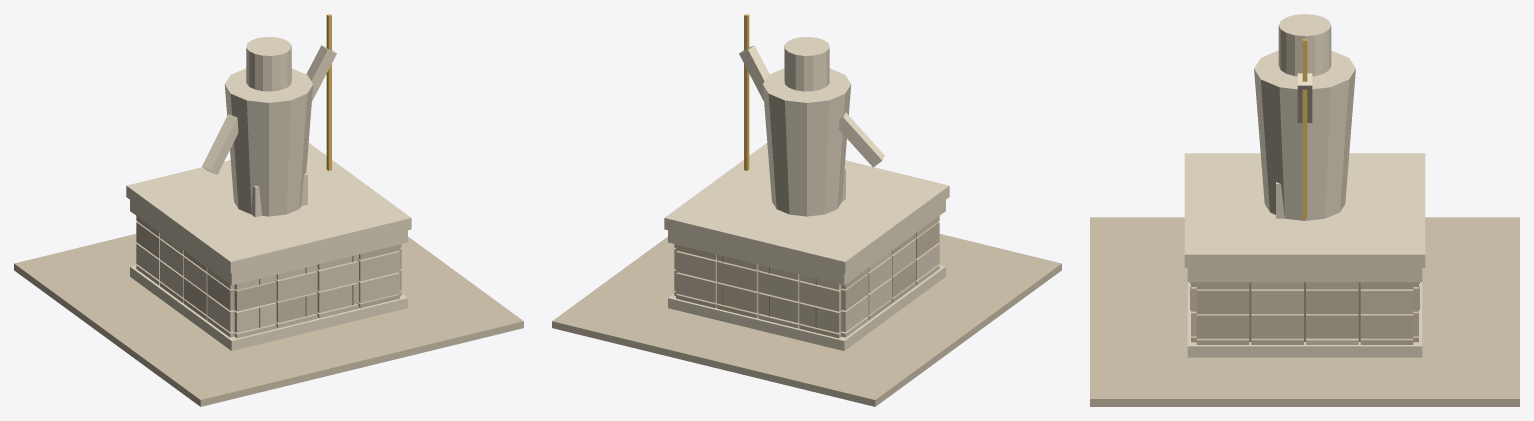
3 views of the same model, side by side, from view 1: azimuth 30°, elevation 25°; view 2: azimuth 150°, elevation 25°; view 3: azimuth 270°, elevation 25° (orthographic). The views are drawn at different scales.
Visible parts, largest first — view 1: Bergfried – Steine, Säulen, Ziegel und Feuerstelle; view 2: Bergfried – Steine, Säulen, Ziegel und Feuerstelle; view 3: Bergfried – Steine, Säulen, Ziegel und Feuerstelle.
Part boxes in pixels (bbox=[...]): Bergfried – Steine, Säulen, Ziegel und Feuerstelle: bbox=[14, 14, 523, 406]; Bergfried – Steine, Säulen, Ziegel und Feuerstelle: bbox=[552, 14, 1061, 406]; Bergfried – Steine, Säulen, Ziegel und Feuerstelle: bbox=[1090, 14, 1519, 406].
Bounding box in the file's own units: 590 × 470 × 590.
